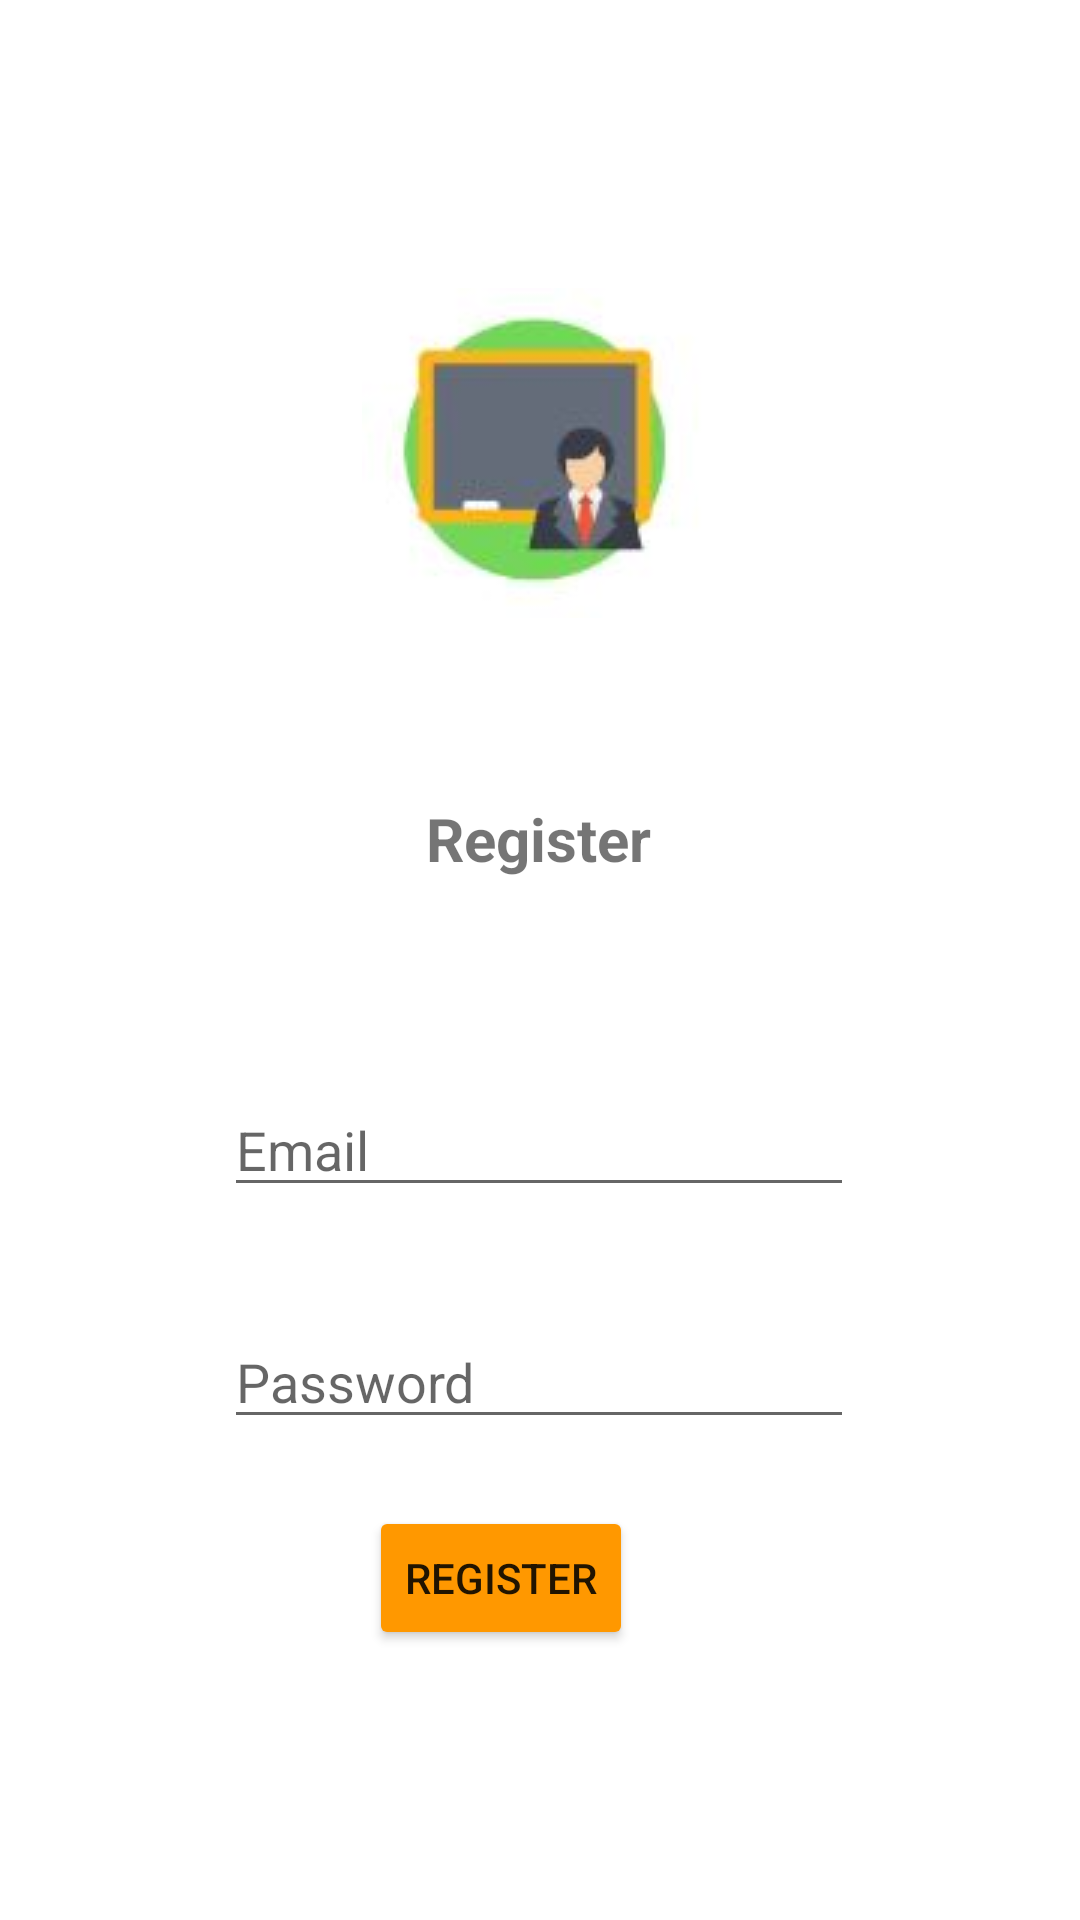

Where icons sit on this 1080w x 1920h app screen, as (x1=x1, y1=y1, x2=x2, y2=y2):
teacher: (x1=402, y1=317, x2=666, y2=583)
